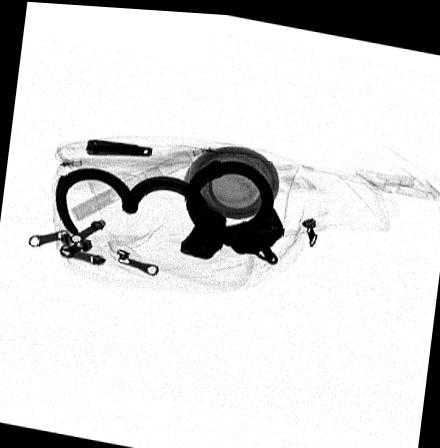HandCuffs: (54, 156, 284, 261)
